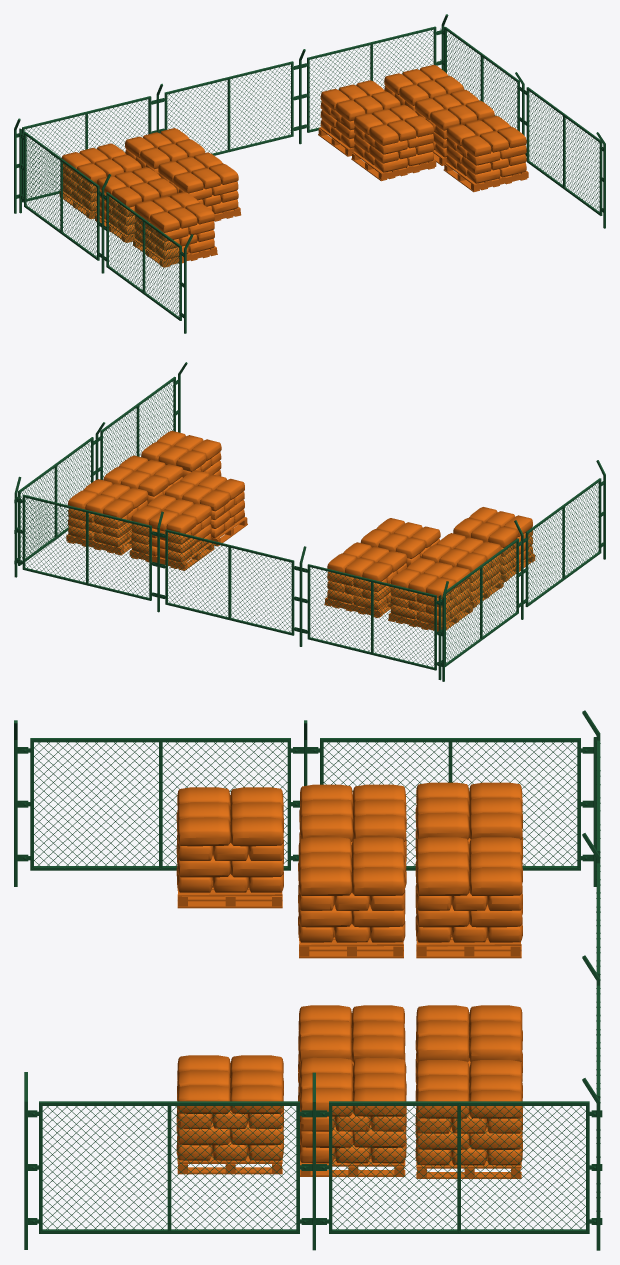
File: 包装机旁.fbx
3 views of the same model, one above another, from view 1: azimuth 30°, elevation 25°; view 2: azimuth 150°, elevation 25°; view 3: azimuth 270°, elevation 25° (orthographic). The views are drawn at different scales.
Visible parts, largest first — view 1: Obj3d66-1680817-5-565, Obj3d66-1680817-5-566, Obj3d66-8497760-14-40, Obj3d66-1680817-5-560, Obj3d66-8497760-16-157, Obj3d66-8497760-14-041, Obj3d66-8497760-16-156, Obj3d66-1680817-5-561, Obj3d66-1680817-5-567, Obj3d66-8497760-12-247, Obj3d66-8497760-16-155, Obj3d66-1680817-5-563 (+5 smaller); view 2: Obj3d66-8497760-14-40, Obj3d66-8497760-16-155, Obj3d66-8497760-12-247, Obj3d66-1680817-5-567, Obj3d66-1680817-5-563, Obj3d66-8497760-14-041, Obj3d66-1680817-5-568, Obj3d66-1680817-5-562, Obj3d66-8497760-16-156, Obj3d66-8497760-14-042, Obj3d66-1680817-5-566, Obj3d66-1680817-5-559 (+5 smaller); view 3: Obj3d66-8497760-16-157, Obj3d66-8497760-14-042, Obj3d66-1680817-5-562, Obj3d66-1680817-5-561, Obj3d66-1680817-5-560, Obj3d66-1680817-5-565, Obj3d66-1680817-5-568, Obj3d66-1680817-5-564, Obj3d66-8497760-14-041, Obj3d66-8497760-16-156, Obj3d66-1680817-5-563, Obj3d66-1680817-5-567 (+5 smaller).
Part boxes in pixels (left/top/right/bottom): Obj3d66-1680817-5-565: left=443, top=115, right=528, bottom=192; Obj3d66-1680817-5-566: left=351, top=104, right=436, bottom=181; Obj3d66-8497760-14-40: left=159, top=61, right=299, bottom=155; Obj3d66-1680817-5-560: left=133, top=191, right=217, bottom=267; Obj3d66-8497760-16-157: left=523, top=87, right=603, bottom=215; Obj3d66-8497760-14-041: left=103, top=192, right=183, bottom=320; Obj3d66-8497760-16-156: left=21, top=132, right=101, bottom=260; Obj3d66-1680817-5-561: left=158, top=152, right=241, bottom=221; Obj3d66-1680817-5-567: left=318, top=80, right=400, bottom=156; Obj3d66-8497760-12-247: left=16, top=96, right=156, bottom=202; Obj3d66-8497760-16-155: left=301, top=26, right=441, bottom=132; Obj3d66-1680817-5-563: left=59, top=143, right=141, bottom=219; Obj3d66-8497760-14-40: left=159, top=529, right=299, bottom=635; Obj3d66-8497760-16-155: left=16, top=494, right=157, bottom=600; Obj3d66-8497760-12-247: left=302, top=564, right=442, bottom=670; Obj3d66-1680817-5-567: left=129, top=494, right=214, bottom=570; Obj3d66-1680817-5-563: left=388, top=558, right=472, bottom=631; Obj3d66-8497760-14-041: left=523, top=478, right=604, bottom=606; Obj3d66-1680817-5-568: left=66, top=479, right=148, bottom=555; Obj3d66-1680817-5-562: left=324, top=542, right=407, bottom=617; Obj3d66-8497760-16-156: left=441, top=538, right=521, bottom=666; Obj3d66-8497760-14-042: left=15, top=437, right=96, bottom=565; Obj3d66-1680817-5-566: left=164, top=470, right=247, bottom=546; Obj3d66-1680817-5-559: left=421, top=533, right=503, bottom=607; Obj3d66-8497760-16-157: left=28, top=1101, right=312, bottom=1233; Obj3d66-8497760-14-042: left=316, top=1101, right=602, bottom=1233; Obj3d66-1680817-5-562: left=415, top=837, right=522, bottom=958; Obj3d66-1680817-5-561: left=298, top=837, right=405, bottom=958; Obj3d66-1680817-5-560: left=176, top=787, right=283, bottom=908; Obj3d66-1680817-5-565: left=176, top=1055, right=283, bottom=1174; Obj3d66-1680817-5-568: left=415, top=1060, right=522, bottom=1178; Obj3d66-1680817-5-564: left=299, top=1057, right=406, bottom=1176; Obj3d66-8497760-14-041: left=17, top=738, right=303, bottom=870; Obj3d66-8497760-16-156: left=307, top=738, right=593, bottom=870; Obj3d66-1680817-5-563: left=415, top=782, right=522, bottom=871; Obj3d66-1680817-5-567: left=415, top=1005, right=522, bottom=1096.
Bounding box in the file's own units: 6612 × 1434 × 4483.
